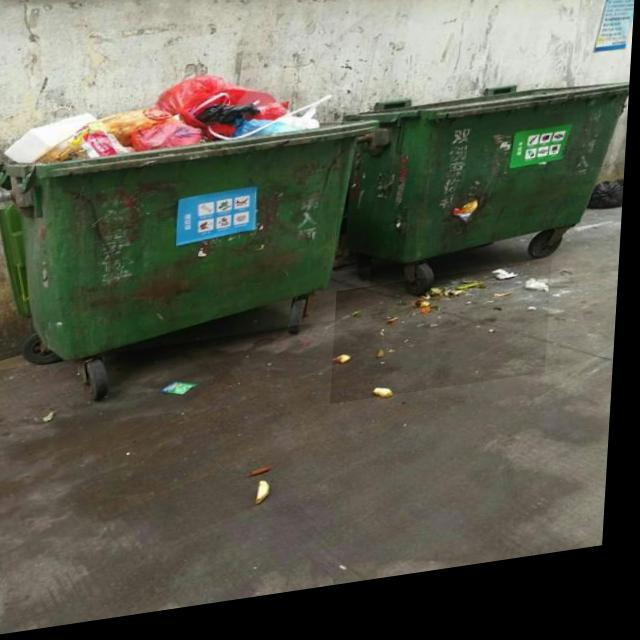garbage: (336, 277, 556, 415)
garbage_bin: (338, 85, 631, 283)
overflow: (0, 61, 386, 373)
